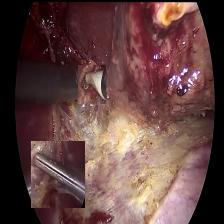Grasper: (30, 140, 83, 207)
Hook: (77, 64, 104, 102)
